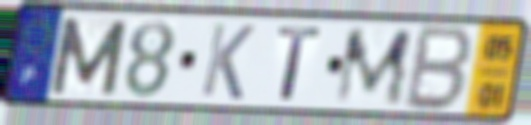8: (120, 15, 180, 102)
B: (400, 22, 477, 116)
K: (197, 20, 258, 103)
M: (46, 15, 132, 99), (331, 26, 416, 107)
T: (274, 23, 325, 103)
